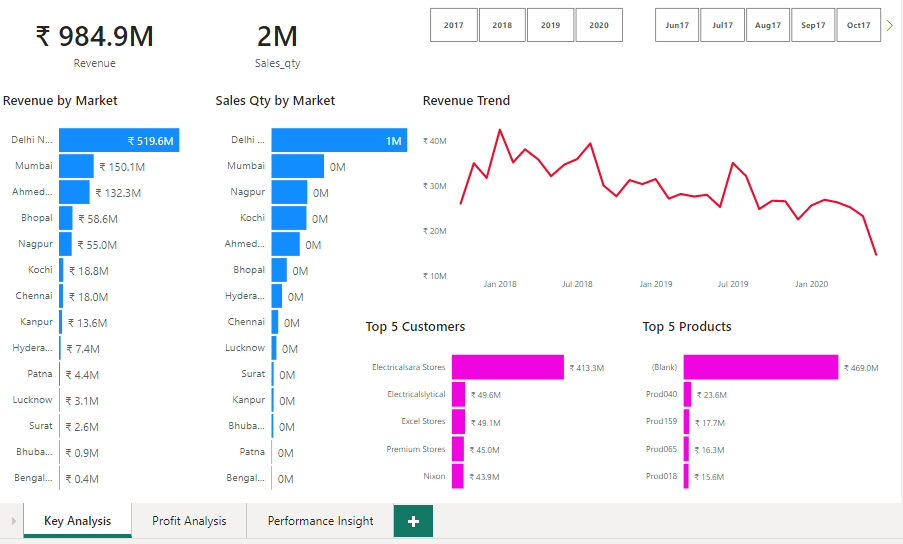

What the dashboard file says about the page in this screenshot:
{"tool":"powerbi","page":{"name":"Key Analysis","canvas":[1280,720],"ordinal":0},"visuals":[{"type":"card","fields":{"Values":["Measures Table.Revenue"]},"box":[18.5,21.8,240.2,90.7],"z":0},{"type":"card","fields":{"Values":["Measures Table.Sales_qty"]},"box":[277.2,21.8,240.2,90.7],"z":1000},{"type":"barChart","title":"Revenue by Market","fields":{"Y":["Measures Table.Revenue"],"Category":["sales markets.markets_name"]},"box":[3.4,136.1,287.2,584.6],"z":2000},{"type":"barChart","title":"Sales Qty by Market","fields":{"Y":["Measures Table.Sales_qty"],"Category":["sales markets.markets_name"]},"box":[304,136.1,283.9,584.6],"z":3000},{"type":"slicer","fields":{"Values":["sales date.year"]},"box":[587.9,11.8,322.5,62.2],"z":4000},{"type":"slicer","fields":{"Values":["sales date.cy_date"]},"box":[907.1,11.8,369.6,62.2],"z":5000},{"type":"barChart","title":"Top 5 Customers","fields":{"Y":["Measures Table.Revenue"],"Category":["sales customers.custmer_name"]},"box":[517.4,456.9,362.8,263.7],"z":6000},{"type":"barChart","title":"Top 5 Products","fields":{"Y":["Measures Table.Revenue"],"Category":["sales products.product_code"]},"box":[910.4,456.9,349.4,263.7],"z":7000},{"type":"lineChart","title":"Revenue Trend","fields":{"Y":["Measures Table.Revenue"],"Category":["sales date.cy_date.Variation.Date Hierarchy.Year","sales date.cy_date.Variation.Date Hierarchy.Quarter","sales date.cy_date.Variation.Date Hierarchy.Month","sales date.cy_date.Variation.Date Hierarchy.Day"]},"box":[598,136.1,677,292.3],"z":8000}]}

Visuals, with their boxes on the page's 1280x720 design canvas (x1, y1, x2, y2). These are canvas units, not pixel positions in the 903x544 screenshot, which may show the page scaled, cropped or inside an application window:
card - Measures Table.Revenue: 18, 22, 259, 112
card - Measures Table.Sales_qty: 277, 22, 517, 112
"Revenue by Market" barChart: 3, 136, 291, 721
"Sales Qty by Market" barChart: 304, 136, 588, 721
slicer - sales date.year: 588, 12, 910, 74
slicer - sales date.cy_date: 907, 12, 1277, 74
"Top 5 Customers" barChart: 517, 457, 880, 721
"Top 5 Products" barChart: 910, 457, 1260, 721
"Revenue Trend" lineChart: 598, 136, 1275, 428
